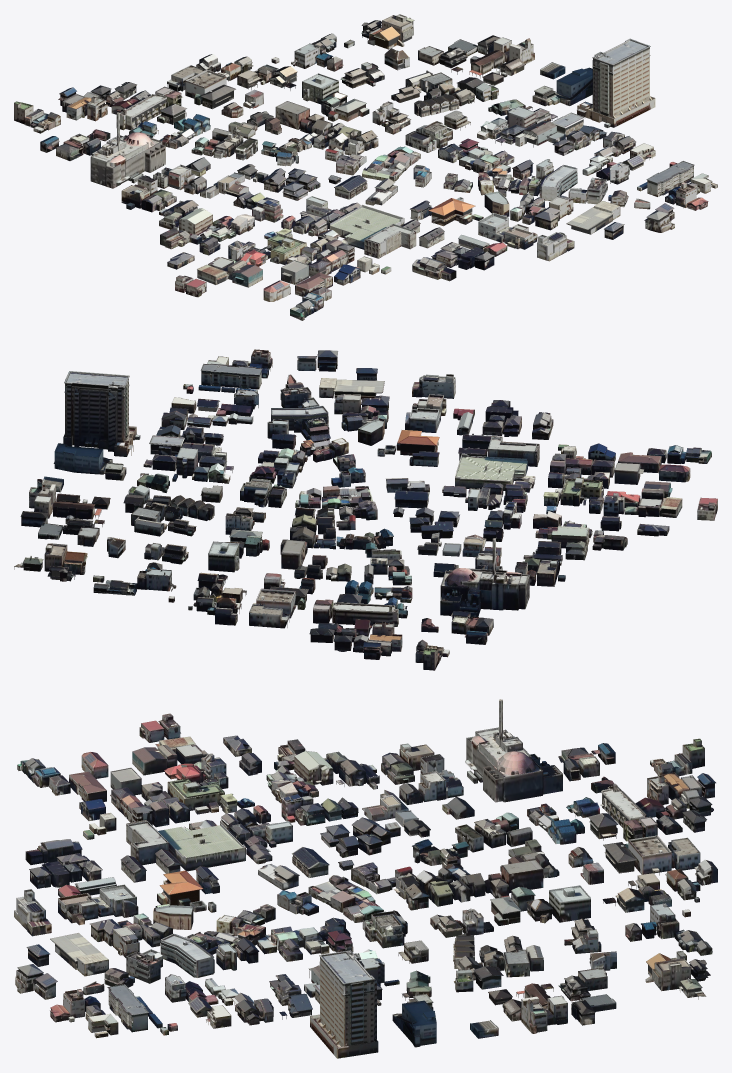
File: lod3-station-3-2-packed.glb
3 renders of one model, top to bottom at view 1: azimuth 30°, elevation 25°; view 2: azimuth 150°, elevation 25°; view 3: azimuth 270°, elevation 25°, orthographic. The views are drawn at different scales.
Size of the model in its own units: 388 by 41.88 by 350.
42 materials, 41 textured.
